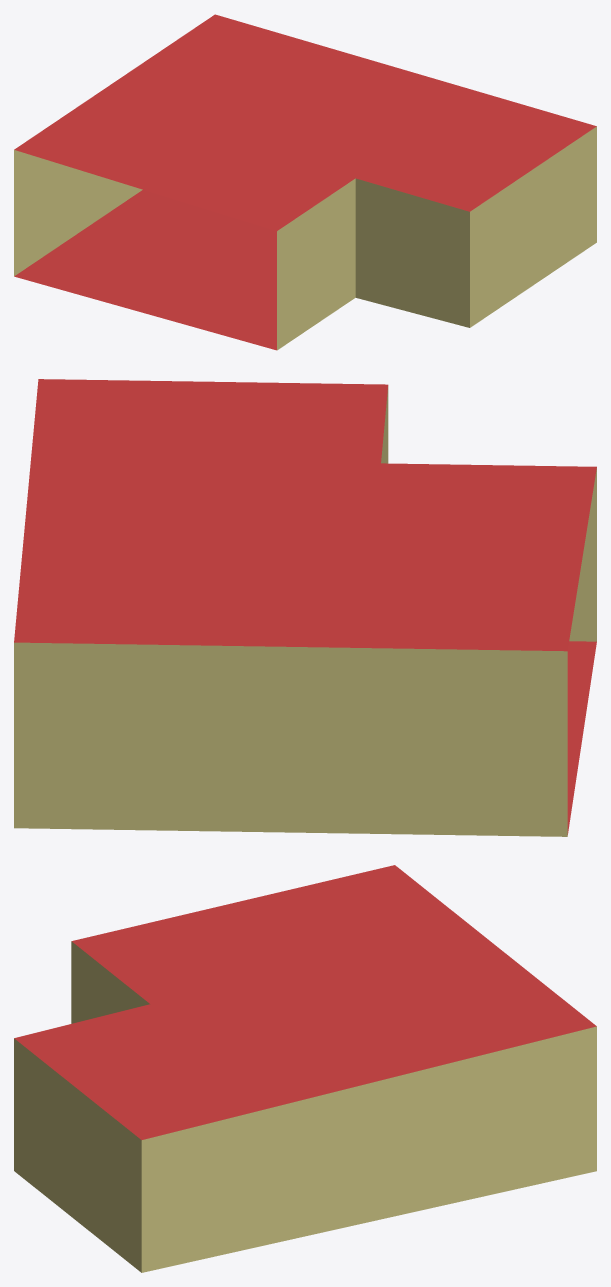
3 renders of one model, top to bottom at view 1: azimuth 30°, elevation 25°; view 2: azimuth 150°, elevation 25°; view 3: azimuth 270°, elevation 25°, orthographic. The views are drawn at different scales.
Size of the model in its own units: 13.17 by 12.33 by 3.38.
